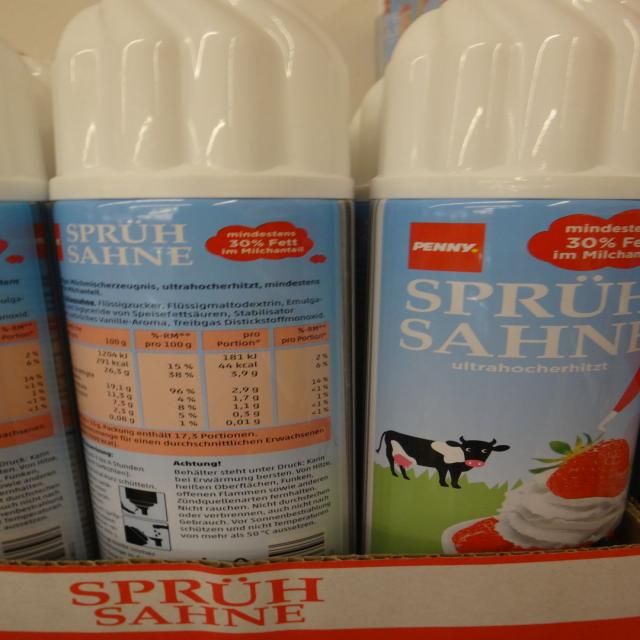Cream: (49, 0, 351, 561), (364, 0, 640, 555), (0, 41, 93, 561)
